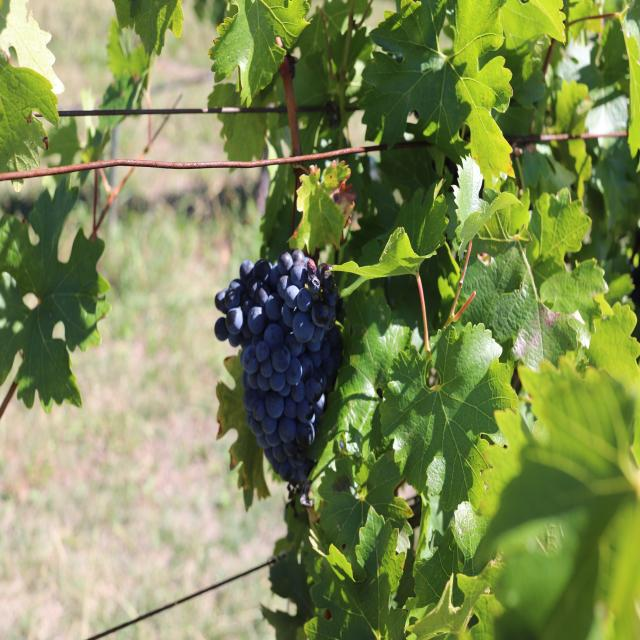grapes: (215, 249, 342, 483)
